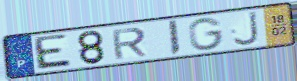8: (75, 29, 106, 66)
E: (33, 32, 74, 71)
G: (187, 16, 226, 52)
I: (166, 18, 182, 57)
J: (231, 10, 262, 47)
R: (110, 26, 149, 61)
